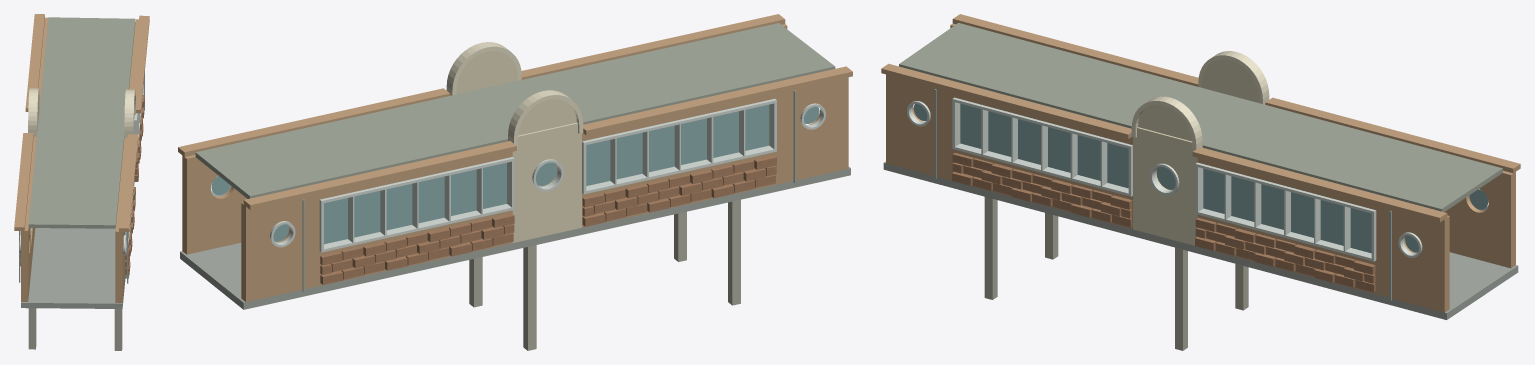
3 views of the same model, side by side, from view 1: azimuth 30°, elevation 25°; view 2: azimuth 150°, elevation 25°; view 3: azimuth 270°, elevation 25° (orthographic). The views are drawn at different scales.
Parts seen in each view (by area): view 1: bridge__roof, bridge__slab, bridge__wall, bridge__arch-edge, bridge__stone, bridge__tile, bridge__frame, bridge__metal; view 2: bridge__wall, bridge__roof, bridge__glass, bridge__tile, bridge__frame, bridge__cream, bridge__slab, bridge__stone, bridge__arch-edge, bridge__metal; view 3: bridge__roof, bridge__wall, bridge__glass, bridge__tile, bridge__frame, bridge__cream, bridge__slab, bridge__stone, bridge__arch-edge, bridge__metal.
Boxes of the visible parts, x1=… form: bridge__roof: x1=28, y1=17, x2=135, y2=228; bridge__slab: x1=21, y1=184, x2=134, y2=308; bridge__wall: x1=14, y1=14, x2=149, y2=302; bridge__arch-edge: x1=28, y1=88, x2=135, y2=137; bridge__stone: x1=28, y1=274, x2=129, y2=350; bridge__tile: x1=20, y1=94, x2=144, y2=274; bridge__frame: x1=19, y1=89, x2=143, y2=255; bridge__metal: x1=19, y1=71, x2=144, y2=283; bridge__wall: x1=178, y1=14, x2=852, y2=302; bridge__roof: x1=195, y1=23, x2=835, y2=198; bridge__glass: x1=211, y1=104, x2=819, y2=244; bridge__tile: x1=320, y1=155, x2=776, y2=284; bridge__frame: x1=211, y1=99, x2=825, y2=252; bridge__cream: x1=456, y1=51, x2=581, y2=242; bridge__slab: x1=180, y1=167, x2=850, y2=309; bridge__stone: x1=469, y1=199, x2=740, y2=350; bridge__arch-edge: x1=446, y1=42, x2=583, y2=147; bridge__metal: x1=302, y1=90, x2=795, y2=291; bridge__roof: x1=899, y1=23, x2=1502, y2=211; bridge__wall: x1=881, y1=14, x2=1520, y2=312; bridge__glass: x1=913, y1=103, x2=1488, y2=253; bridge__tile: x1=952, y1=153, x2=1375, y2=292; bridge__frame: x1=907, y1=97, x2=1487, y2=261; bridge__cream: x1=1133, y1=59, x2=1258, y2=245; bridge__slab: x1=883, y1=161, x2=1518, y2=319; bridge__stone: x1=984, y1=197, x2=1248, y2=350; bridge__arch-edge: x1=1131, y1=51, x2=1269, y2=152; bridge__metal: x1=934, y1=89, x2=1391, y2=300.
Size of the model in its own units: 15.18 by 8.61 by 20.12.
10 materials, 1 textured.
